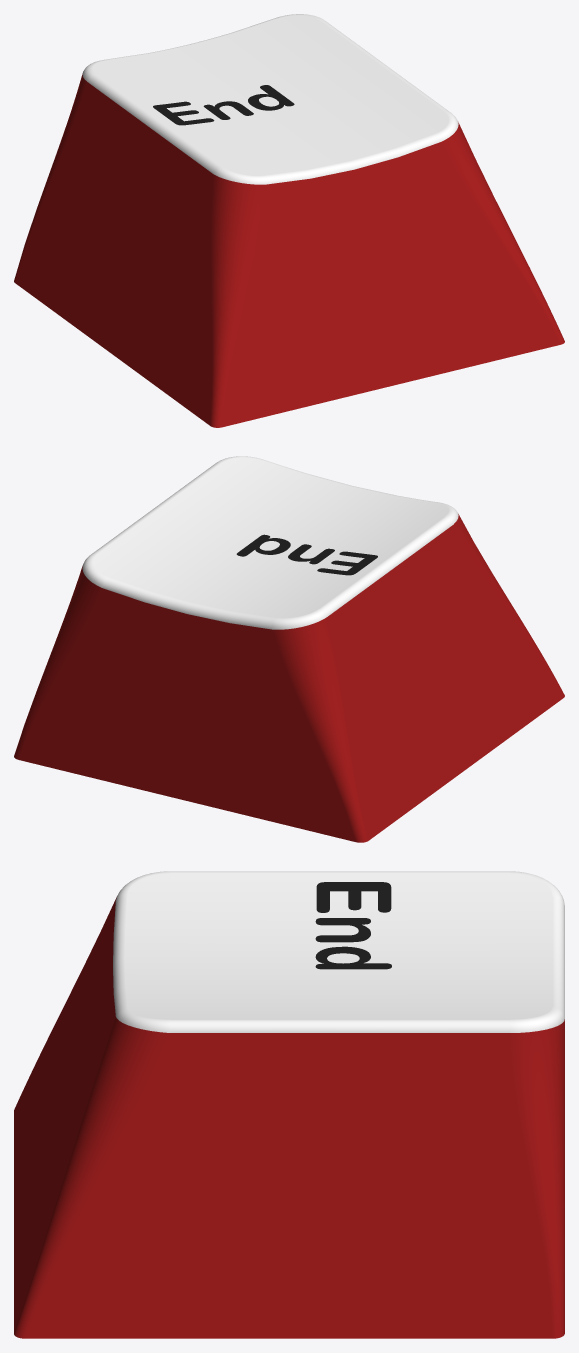
File: End.fbx
The picture shows the model from 3 angles, top to bottom: view 1: azimuth 30°, elevation 25°; view 2: azimuth 150°, elevation 25°; view 3: azimuth 270°, elevation 25°; orthographic projection. The views are drawn at different scales.
Visible parts, largest first — view 1: Body1; view 2: Body1; view 3: Body1.
Boxes of the visible parts, x1=… form: Body1: x1=14, y1=14, x2=564, y2=427; Body1: x1=14, y1=456, x2=564, y2=842; Body1: x1=14, y1=871, x2=564, y2=1338.
Bounding box in the file's own units: 18 × 9.95 × 18.
